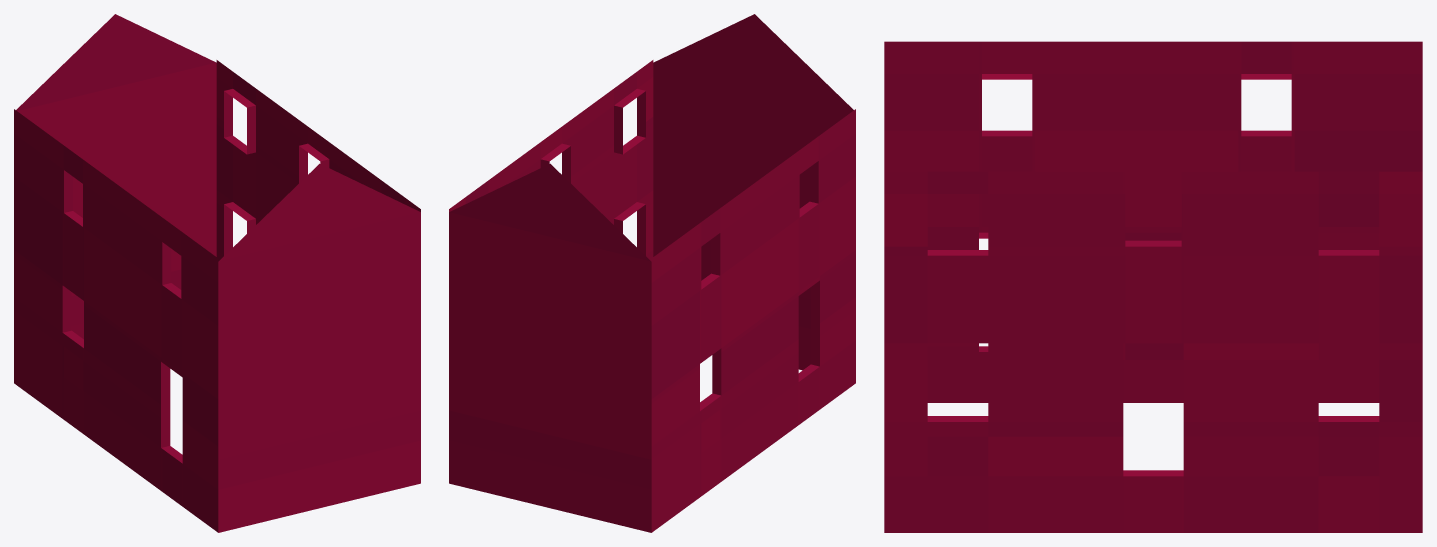
The model's file is SM_Bld_196_Masonry.glb.
3 views of the same model, side by side, from view 1: azimuth 30°, elevation 25°; view 2: azimuth 150°, elevation 25°; view 3: azimuth 270°, elevation 25° (orthographic). The views are drawn at different scales.
Parts seen in each view (by area): view 1: SM_Bld_196_Masonry; view 2: SM_Bld_196_Masonry; view 3: SM_Bld_196_Masonry.
Boxes of the visible parts, x1,y1,x2,y2 form: SM_Bld_196_Masonry: (14,14,420,532); SM_Bld_196_Masonry: (449,14,855,532); SM_Bld_196_Masonry: (884,41,1422,532).
Bounding box in the file's own units: 4.92 × 8 × 8.6.
